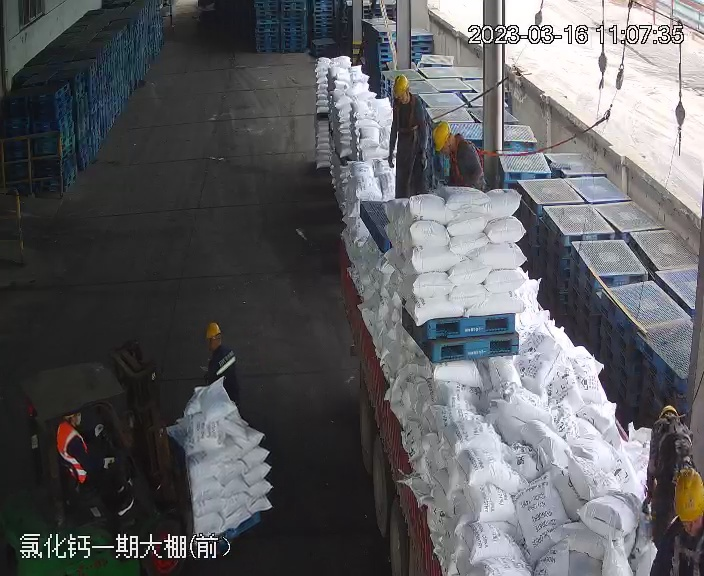belt: (674, 518, 704, 574), (449, 136, 487, 174), (654, 414, 693, 447), (395, 92, 420, 125)
head: (656, 470, 704, 568), (430, 120, 488, 193), (432, 121, 478, 160), (203, 321, 237, 364), (390, 75, 427, 113), (392, 75, 412, 98)
helmet: (673, 467, 704, 521), (391, 74, 426, 112), (432, 121, 452, 152), (392, 74, 410, 98), (204, 321, 222, 338)
people: (54, 412, 127, 504), (387, 75, 436, 197), (430, 121, 489, 195), (201, 319, 245, 410)
truck: (326, 66, 674, 576)
